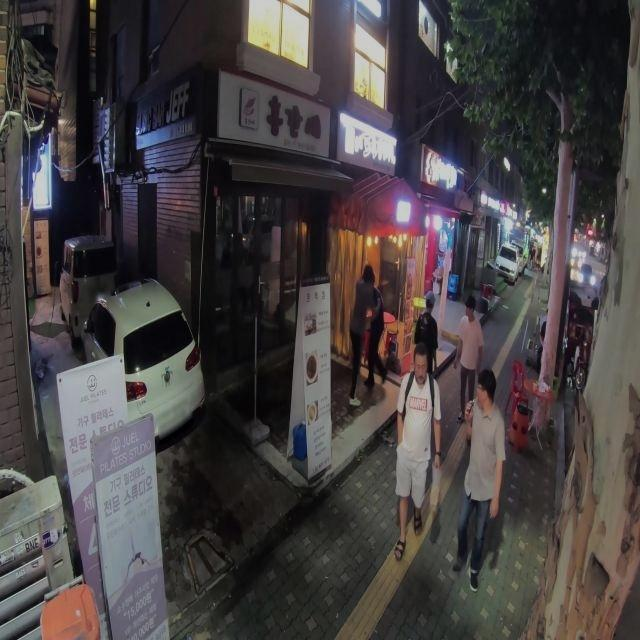fight: (350, 268, 385, 401)
non-fight: (454, 374, 506, 590), (394, 347, 442, 559), (452, 297, 484, 423), (412, 293, 438, 376)
